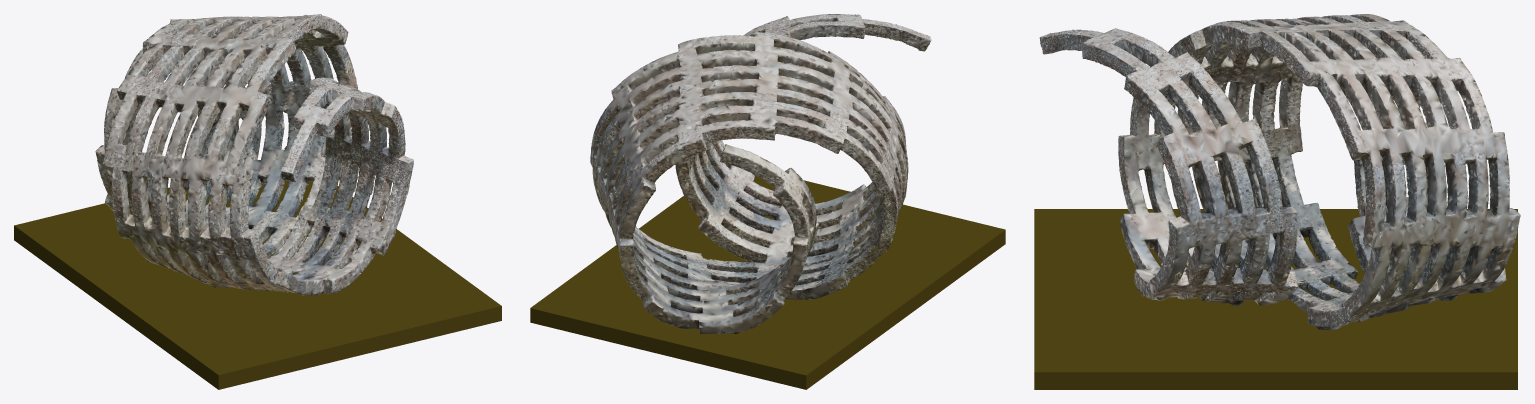
Rendered from preview.glb.
3 views of the same model, side by side, from view 1: azimuth 30°, elevation 25°; view 2: azimuth 150°, elevation 25°; view 3: azimuth 270°, elevation 25° (orthographic). The views are drawn at different scales.
Parts seen in each view (by area): view 1: Object_2; view 2: Object_2; view 3: Object_2.
Boxes of the visible parts, bbox=[...] form: Object_2: bbox=[14, 14, 501, 389]; Object_2: bbox=[530, 14, 1005, 389]; Object_2: bbox=[1034, 14, 1520, 389].
Bounding box in the file's own units: 200 × 165 × 251.
